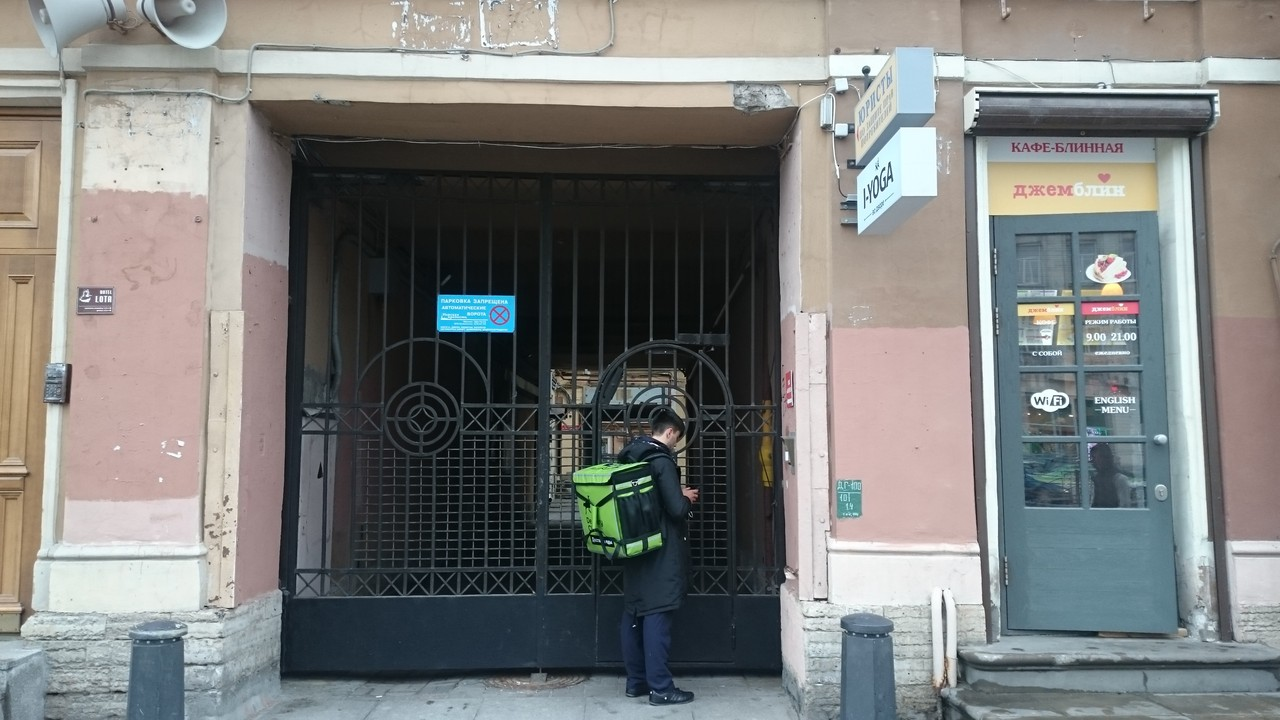arch: (246, 97, 787, 681)
cantilever: (837, 42, 933, 237)
door: (985, 213, 1182, 638)
